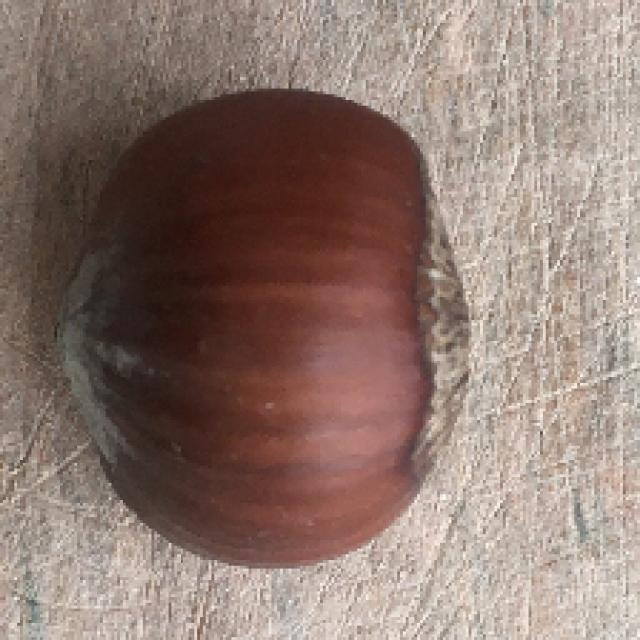DamagedHazelnut: (57, 94, 477, 570)
